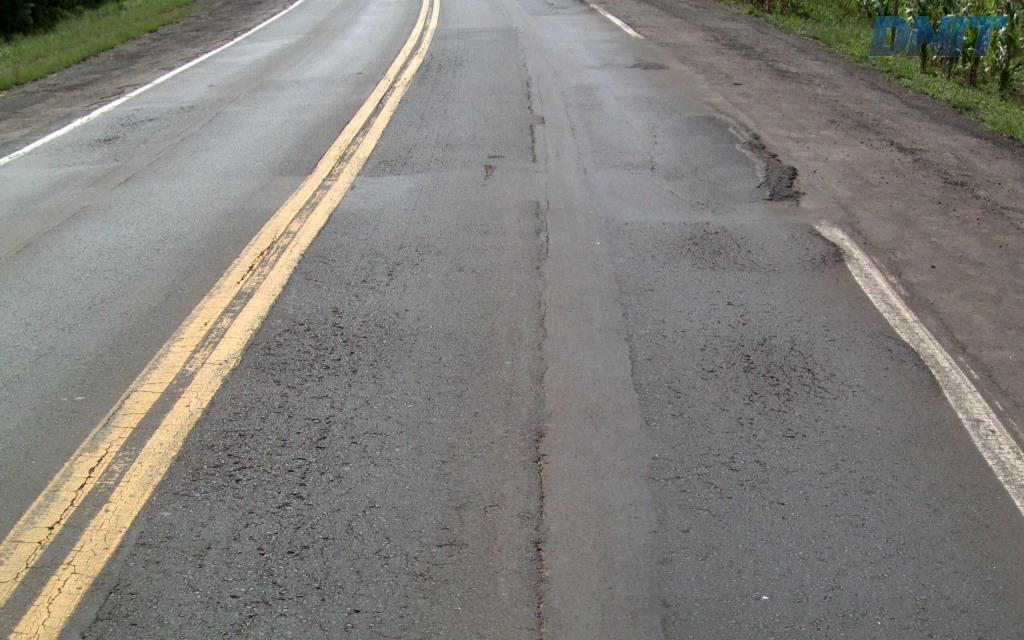crack: (171, 424, 271, 503), (229, 536, 307, 624), (267, 332, 344, 377), (760, 361, 794, 410), (277, 538, 317, 578), (525, 536, 546, 588)
